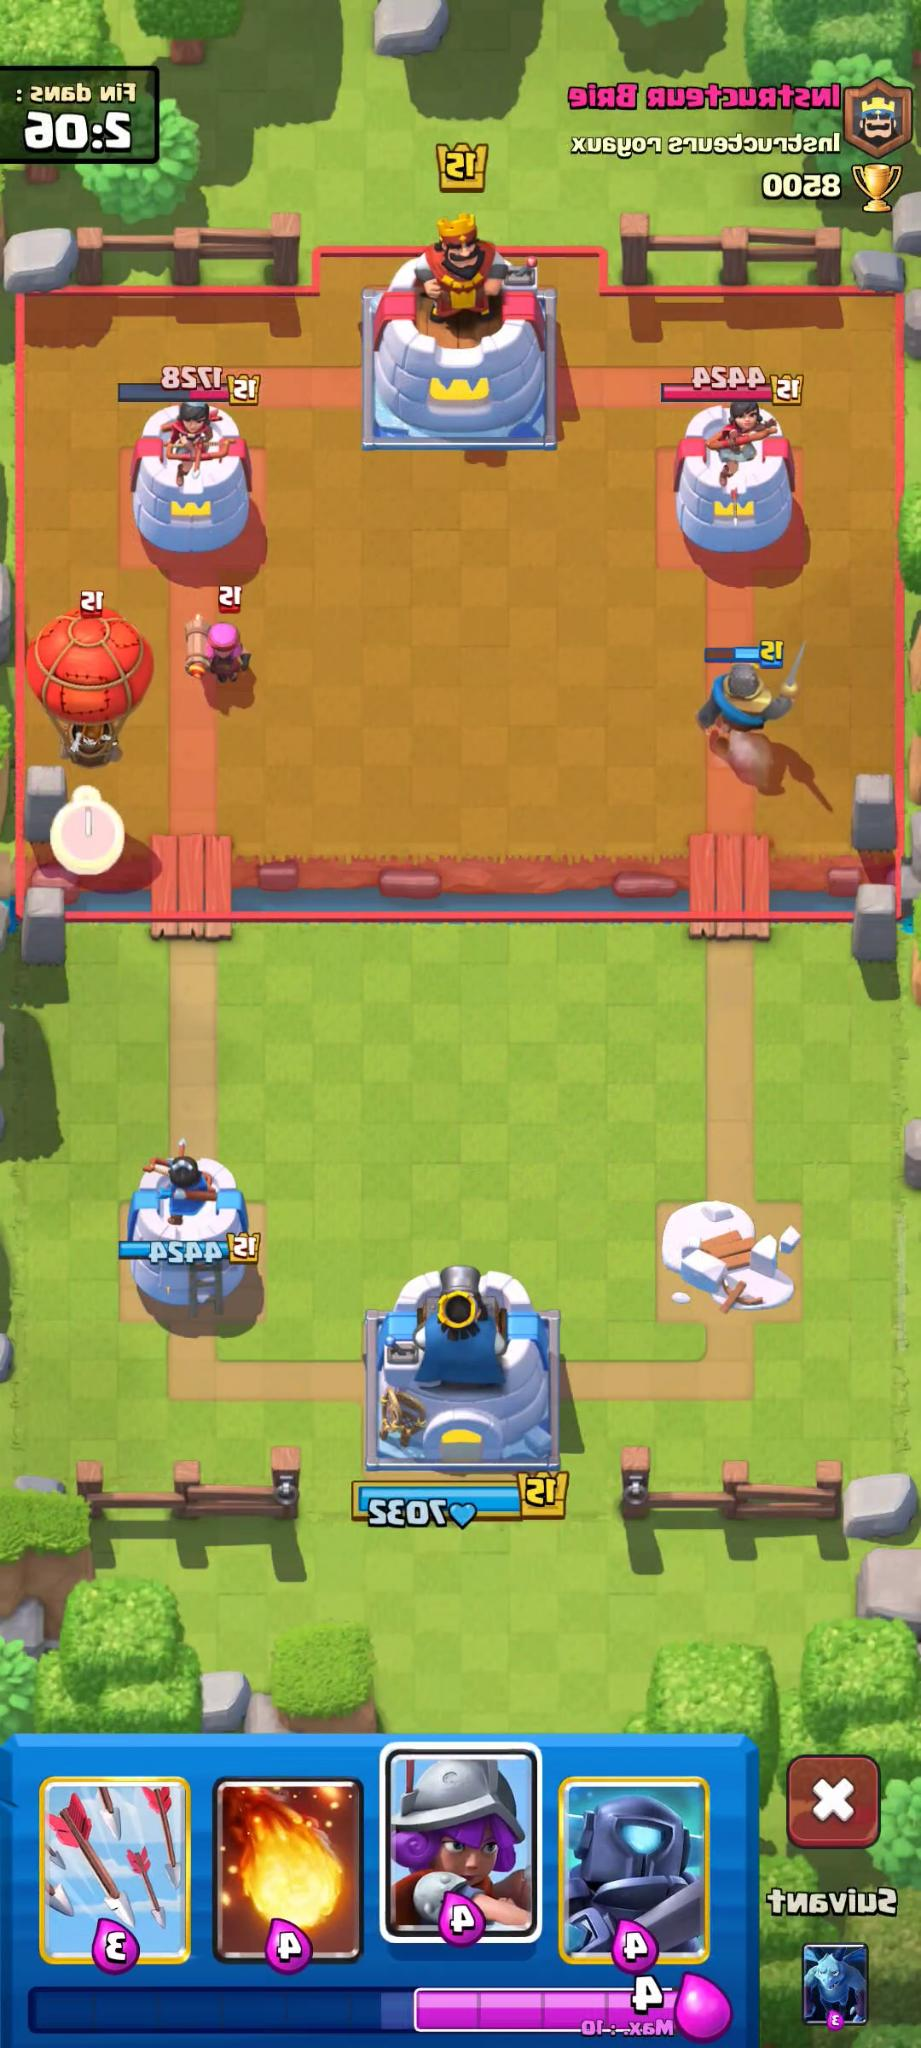chevalier: (694, 640, 805, 755)
